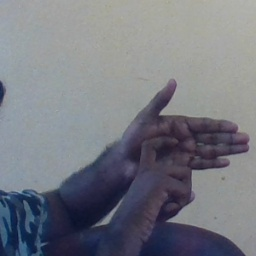R: (117, 73, 252, 225)
